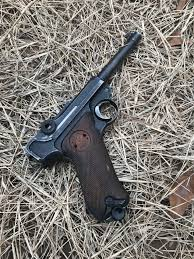Gun: (60, 62, 129, 180)
